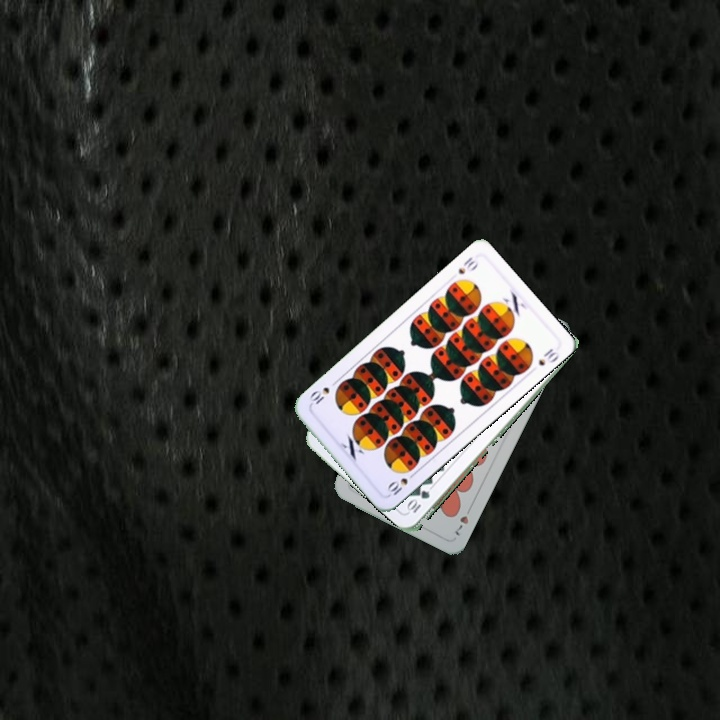G10: (404, 487, 432, 516)
H7: (450, 502, 475, 539)
S10: (383, 465, 419, 498), (454, 253, 481, 277)
